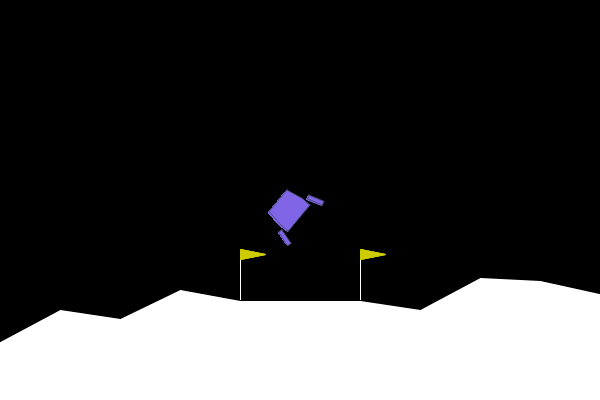lander: (257, 177, 326, 248)
